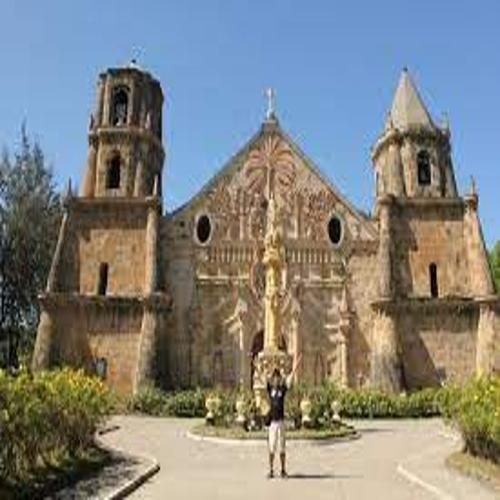Miagao Church: (31, 44, 499, 426)
